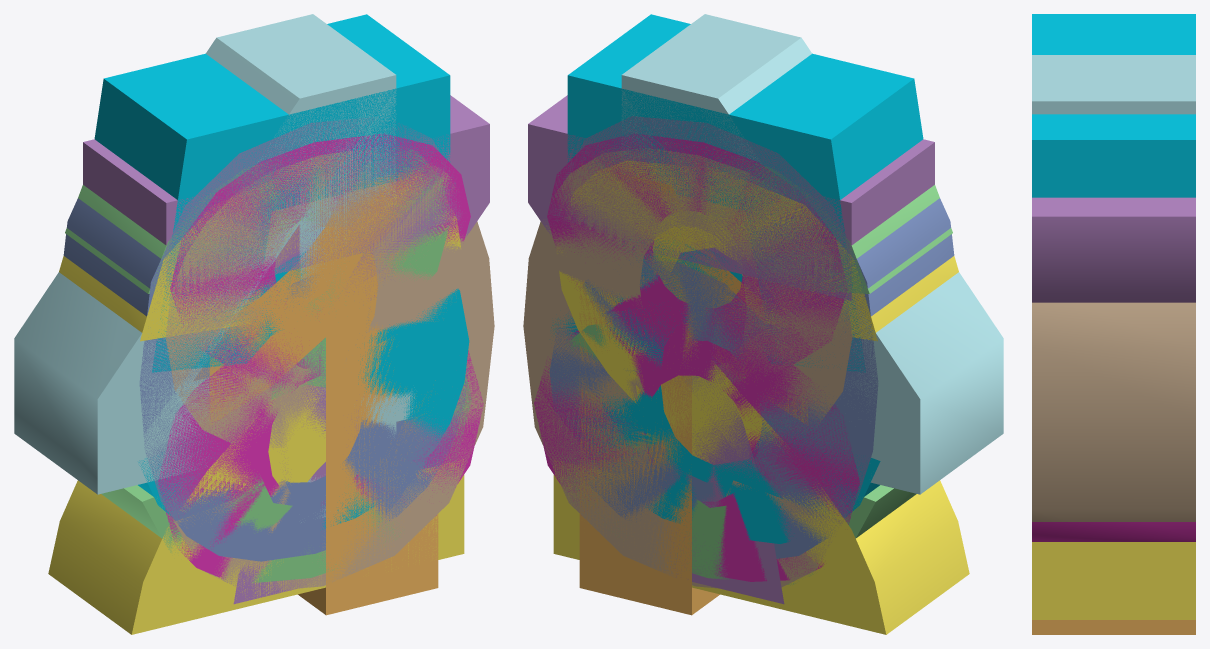
File: all.fbx
3 renders of one model, left to right at view 1: azimuth 30°, elevation 25°; view 2: azimuth 150°, elevation 25°; view 3: azimuth 270°, elevation 25°, orthographic.
Parts seen in each view (by area): view 1: Object_10, Object_8, Object_2, Object_7, Object_5, Object_3, Object_6, Object_11, Object_9; view 2: Object_2, Object_3, Object_6, Object_8, Object_7, Object_10, Object_11, Object_5, Object_9; view 3: Object_2, Object_8, Object_11, Object_6, Object_10, Object_3, Object_5.
Boxes of the visible parts, left/top/right/bottom form: Object_10: left=14, top=14, right=416, bottom=522; Object_8: left=94, top=14, right=469, bottom=529; Object_2: left=165, top=148, right=494, bottom=590; Object_7: left=63, top=118, right=468, bottom=561; Object_5: left=209, top=169, right=438, bottom=615; Object_3: left=158, top=133, right=483, bottom=578; Object_6: left=48, top=168, right=464, bottom=634; Object_11: left=83, top=95, right=489, bottom=604; Object_9: left=65, top=146, right=471, bottom=582; Object_2: left=523, top=148, right=852, bottom=588; Object_3: left=534, top=133, right=859, bottom=581; Object_6: left=553, top=160, right=969, bottom=634; Object_8: left=551, top=14, right=923, bottom=543; Object_7: left=549, top=116, right=954, bottom=558; Object_10: left=621, top=14, right=1003, bottom=494; Object_11: left=528, top=95, right=934, bottom=604; Object_5: left=579, top=164, right=808, bottom=615; Object_9: left=548, top=139, right=952, bottom=585; Object_2: left=1032, top=302, right=1195, bottom=521; Object_8: left=1032, top=14, right=1195, bottom=197; Object_11: left=1032, top=197, right=1195, bottom=302; Object_6: left=1032, top=542, right=1195, bottom=619; Object_10: left=1032, top=55, right=1195, bottom=114; Object_3: left=1032, top=522, right=1195, bottom=541; Object_5: left=1032, top=620, right=1195, bottom=634.
Size of the model in its own units: 11 by 13.85 by 4.
